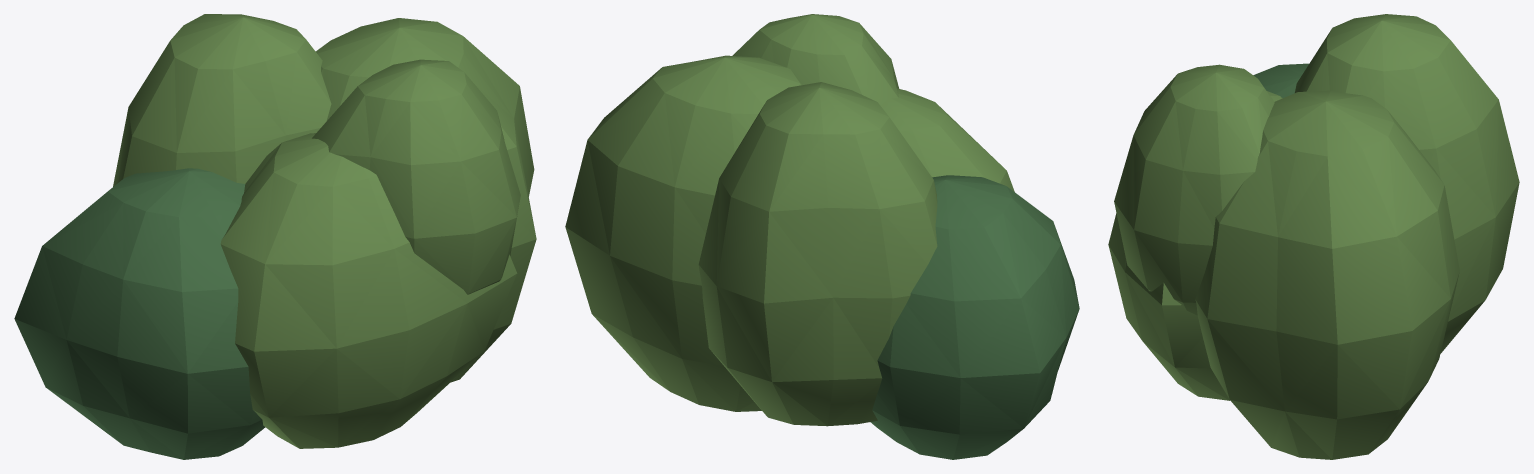
The model's file is SHRUB_02.glb.
3 views of the same model, side by side, from view 1: azimuth 30°, elevation 25°; view 2: azimuth 150°, elevation 25°; view 3: azimuth 270°, elevation 25° (orthographic). The views are drawn at different scales.
Parts seen in each view (by area): view 1: CIVRUM_GAME_SHRUB_02; view 2: CIVRUM_GAME_SHRUB_02; view 3: CIVRUM_GAME_SHRUB_02.
Part boxes in pixels (box(x1,y1,x2,y2)): CIVRUM_GAME_SHRUB_02: box(14, 14, 536, 459); CIVRUM_GAME_SHRUB_02: box(565, 14, 1079, 459); CIVRUM_GAME_SHRUB_02: box(1108, 14, 1519, 459).
Bounding box in the file's own units: 1.58 × 1.15 × 1.16.
